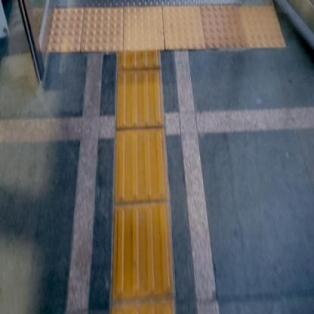Podoctatil: (116, 51, 172, 313), (47, 3, 282, 51)
